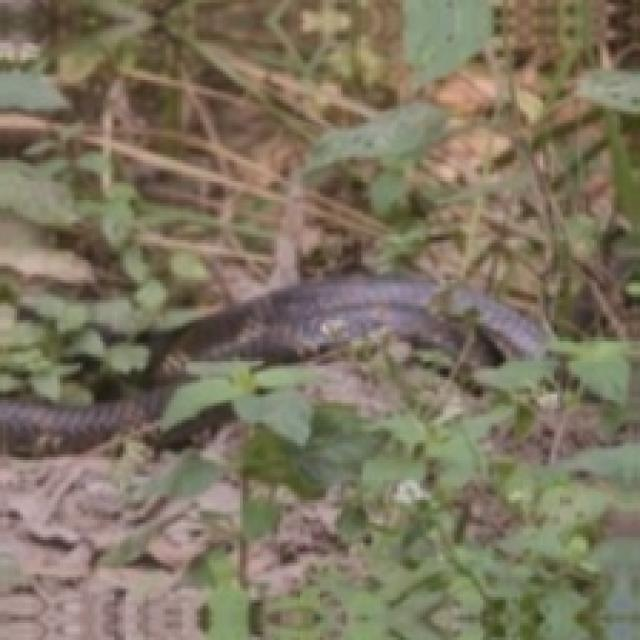king cobra: (154, 274, 543, 377), (0, 386, 169, 454)
